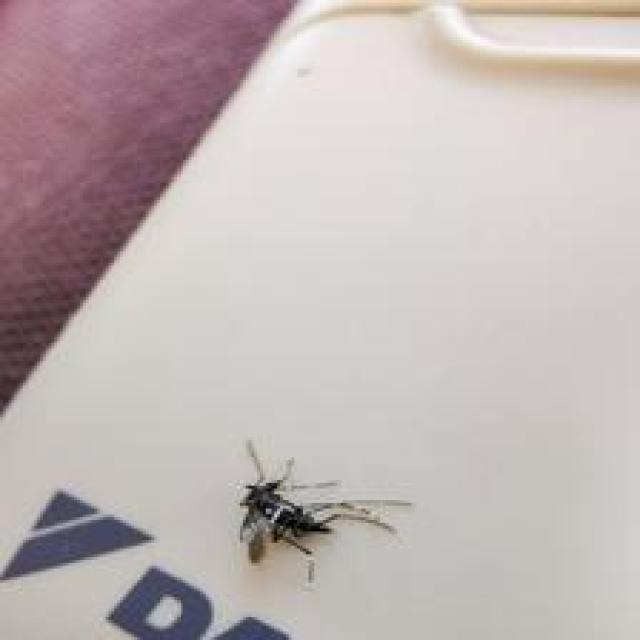Aedes albopictus: (235, 439, 414, 584)
